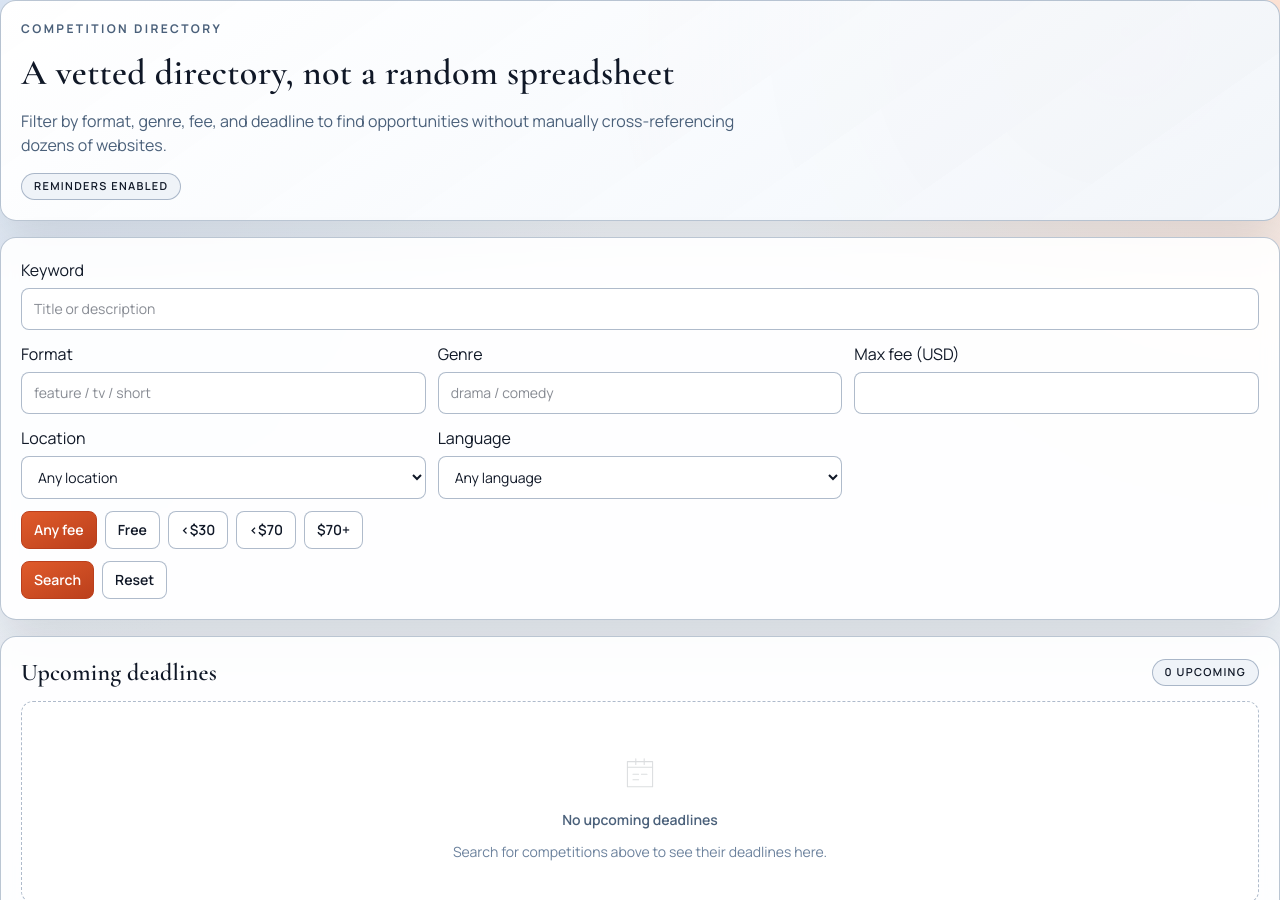
Test: CompetitionsPage — branch coverage › Reset button clears pending and committed filters
Type "hello" into the field labelled "Keyword".
click(640, 308); type("hello")  # box x1=21 y1=288 x2=1259 y2=330
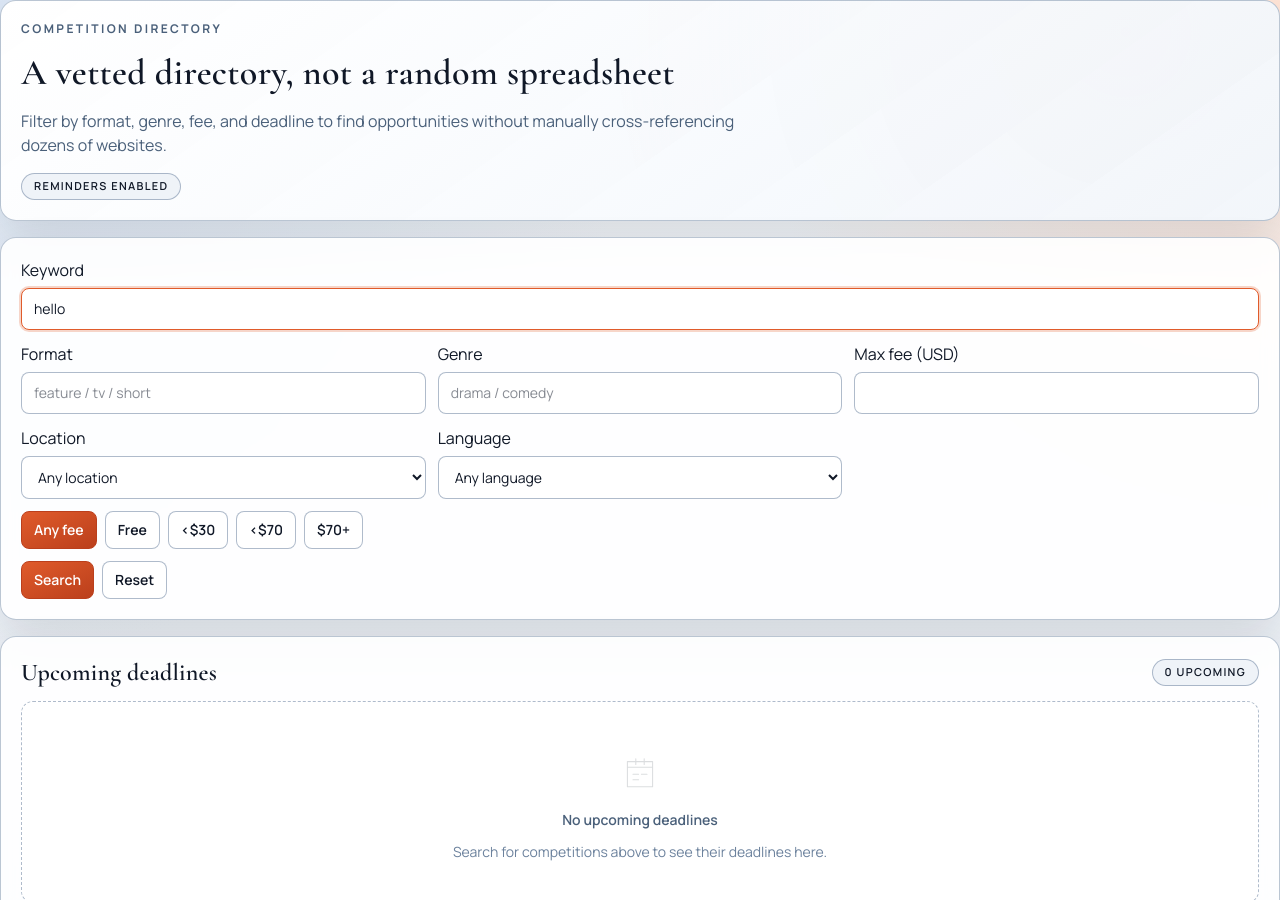
Click the button "Reset".
click(135, 580)  # box x1=102 y1=560 x2=167 y2=598
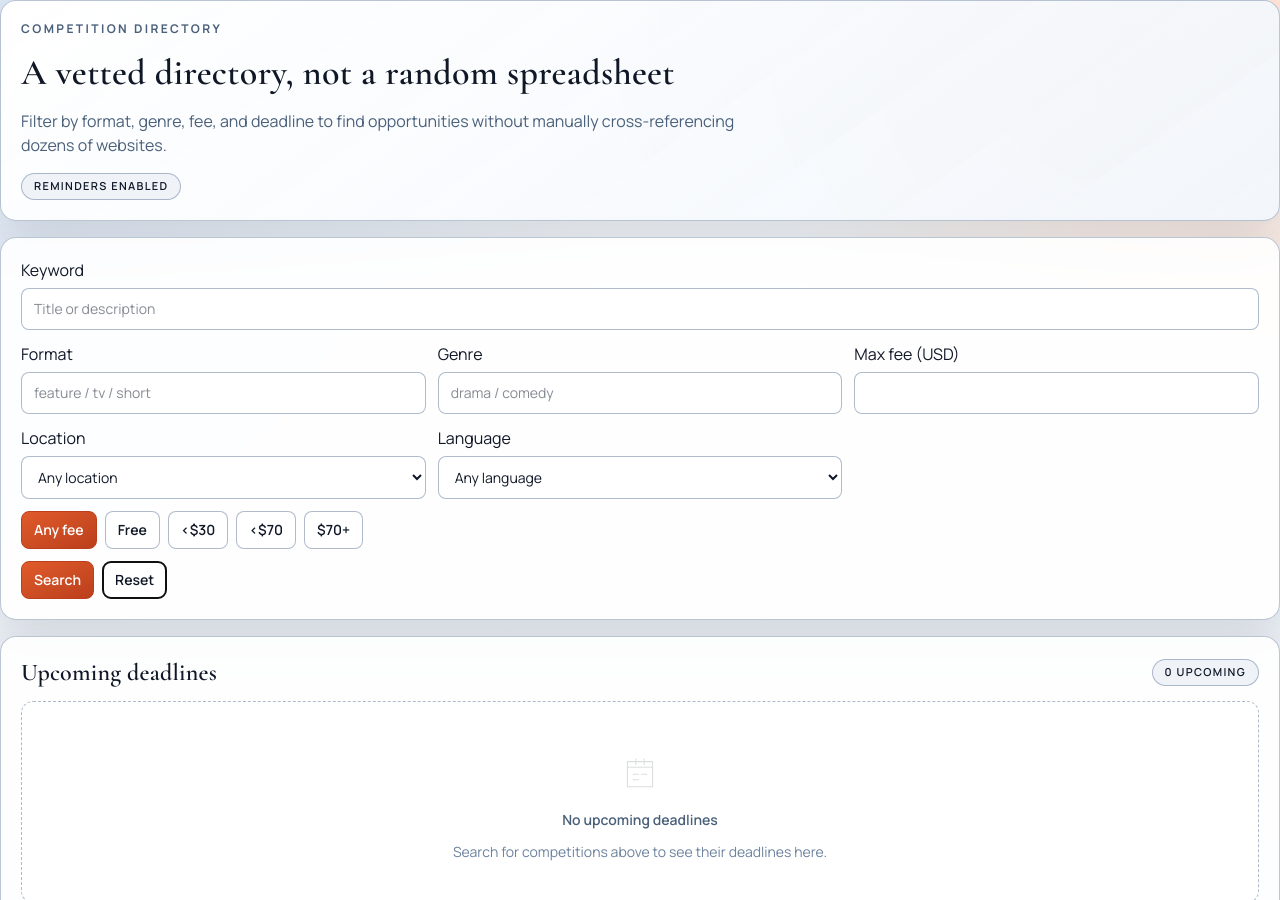
Expected: the field labelled "Keyword" is empty, x1=21 y1=288 x2=1259 y2=330
